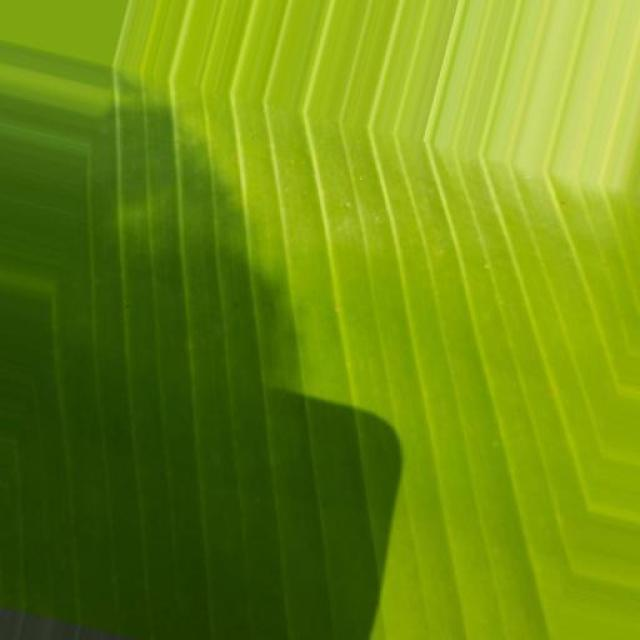Black_leaf_spot: (24, 105, 640, 640)
